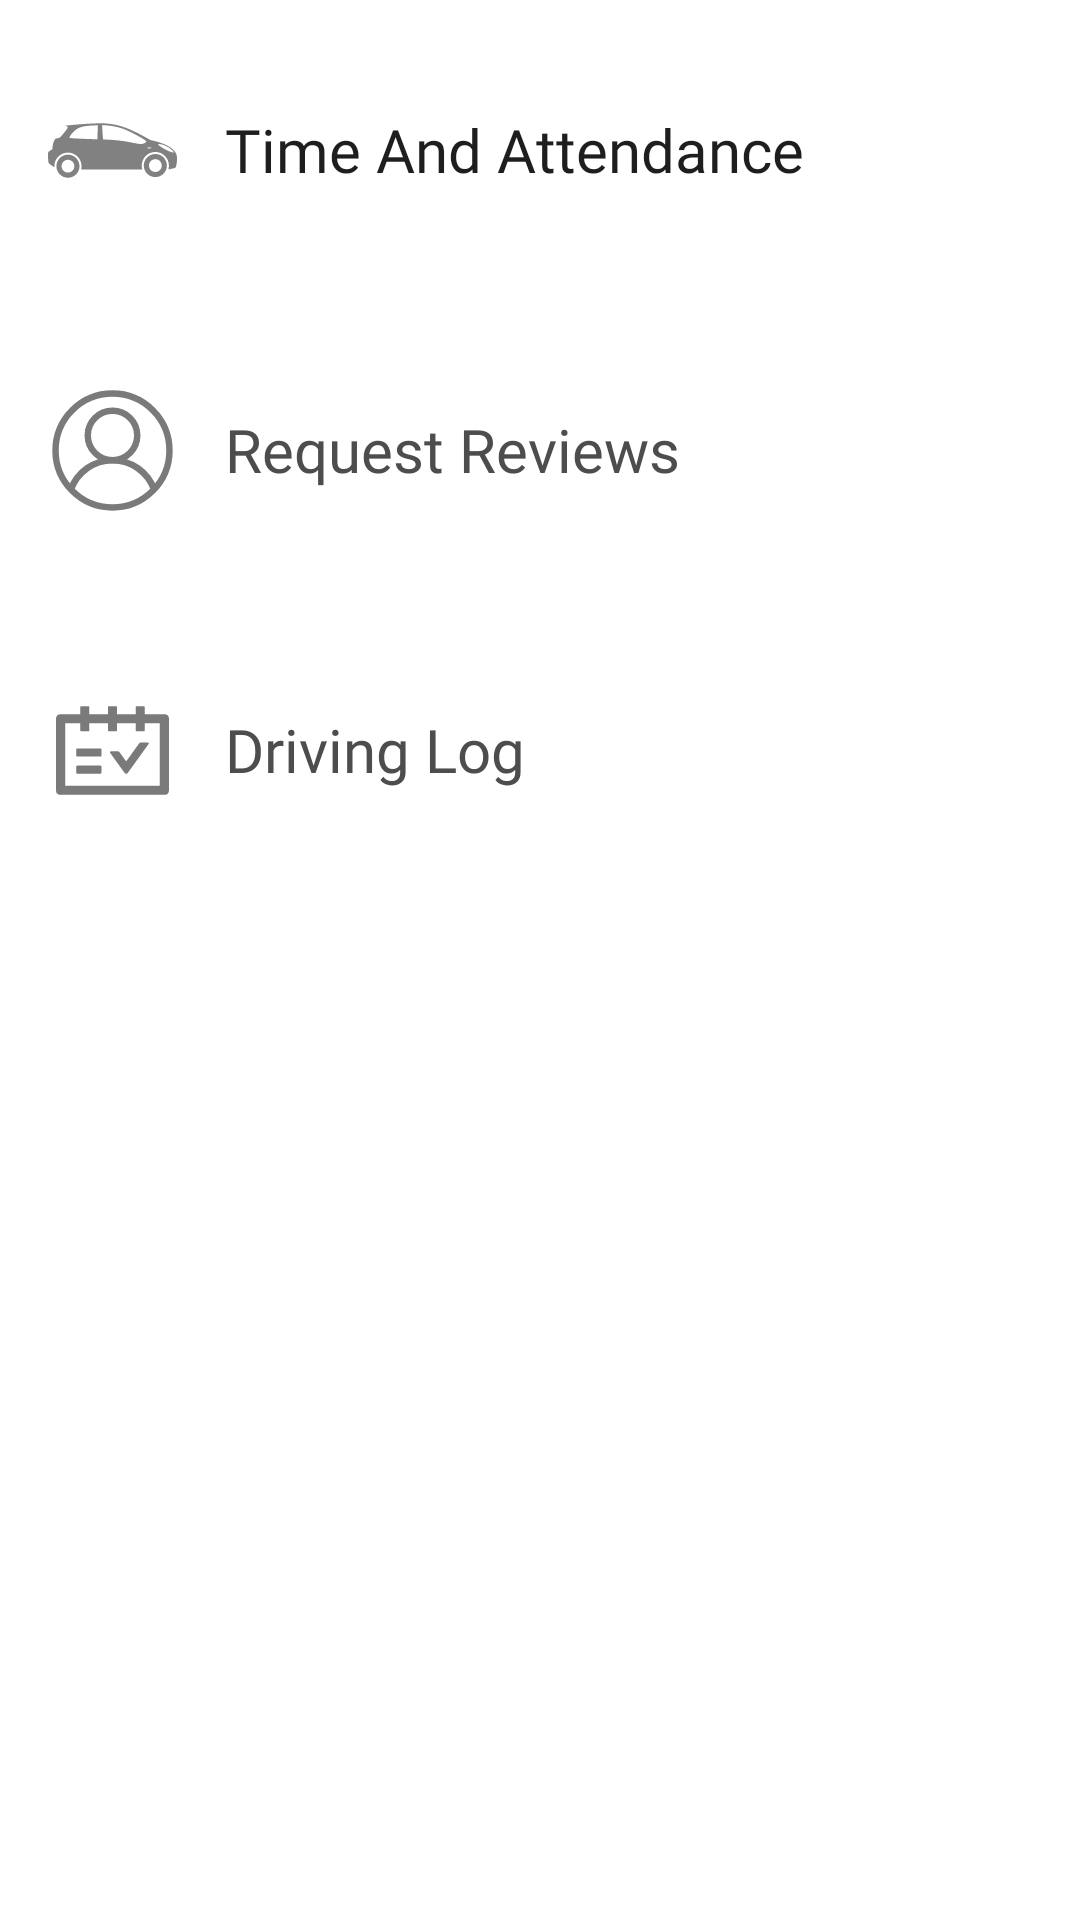

Screen size 1080×1920. Icon name, then its center in pixels as [x,y]:
taem profile: [112,450]
taem schedule: [112,750]
